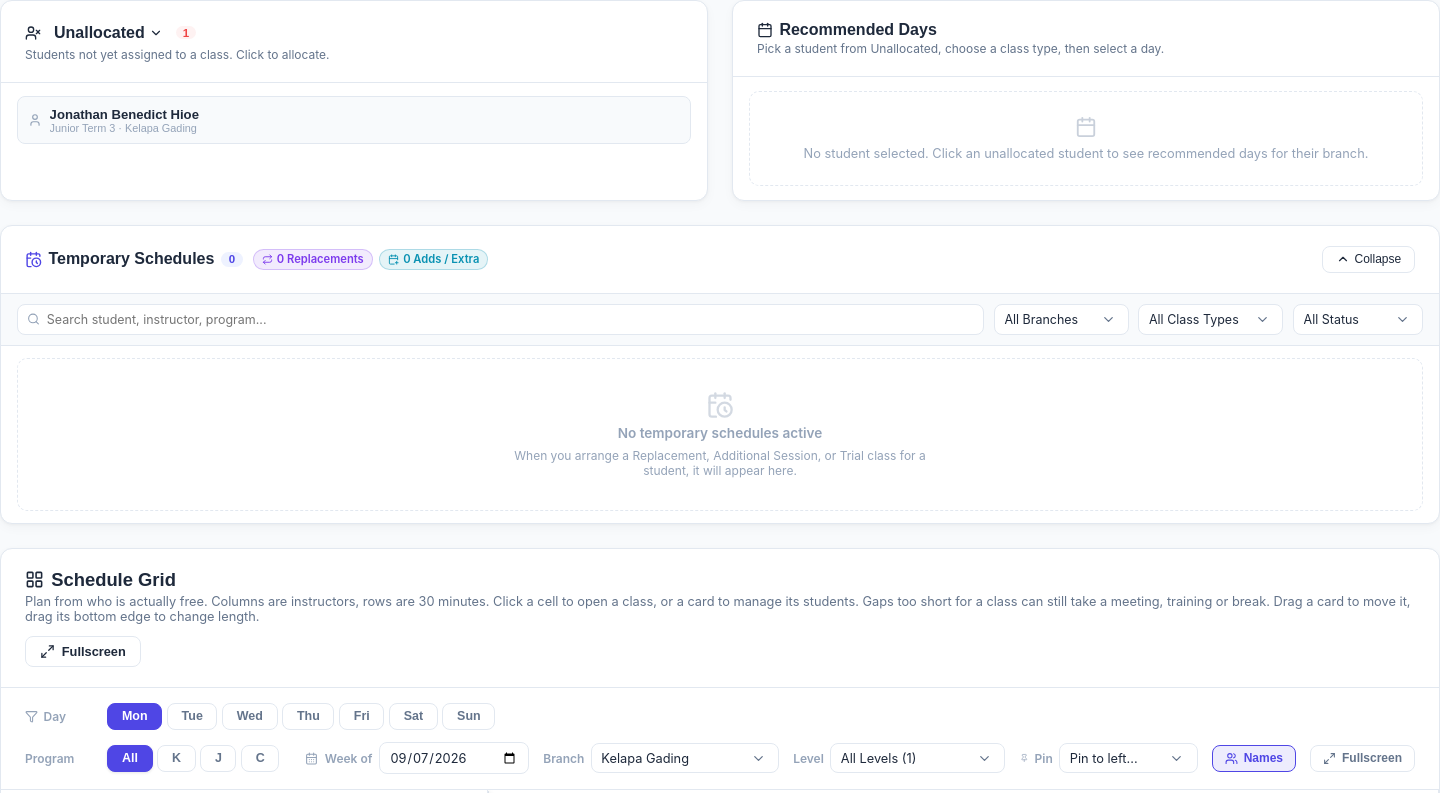
Test: NewSchedulePage - Program and Term Locking › shows student lesson comparison badges in recommended times slots
The image size is (1440, 793).
Click on Jonathan
Click the text "Jonathan Benedict Hioe". click: (124, 114)
box: [50,107,199,122]
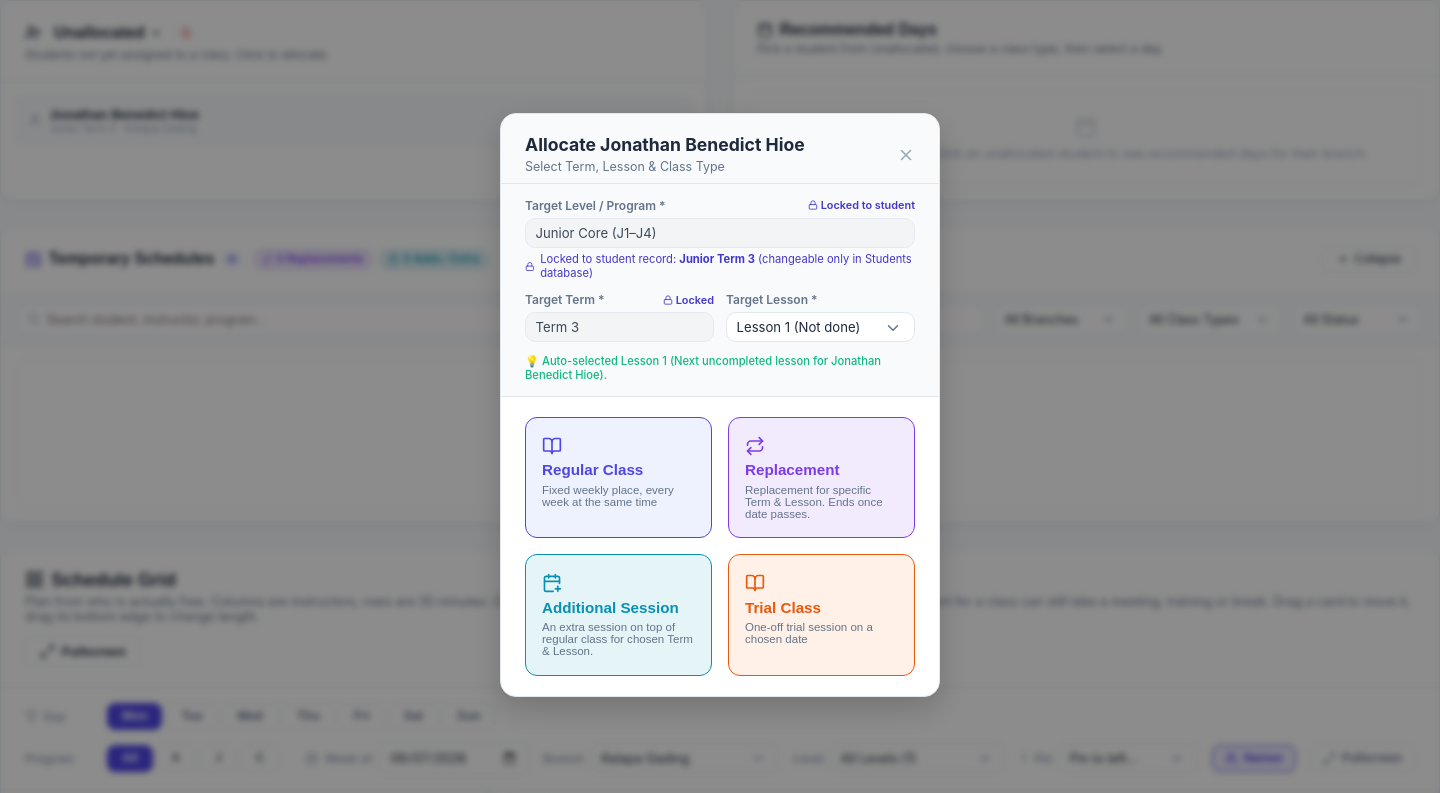
Click on Replacement card
Click the button "Replacement". click: (822, 478)
box: [728,417,915,538]
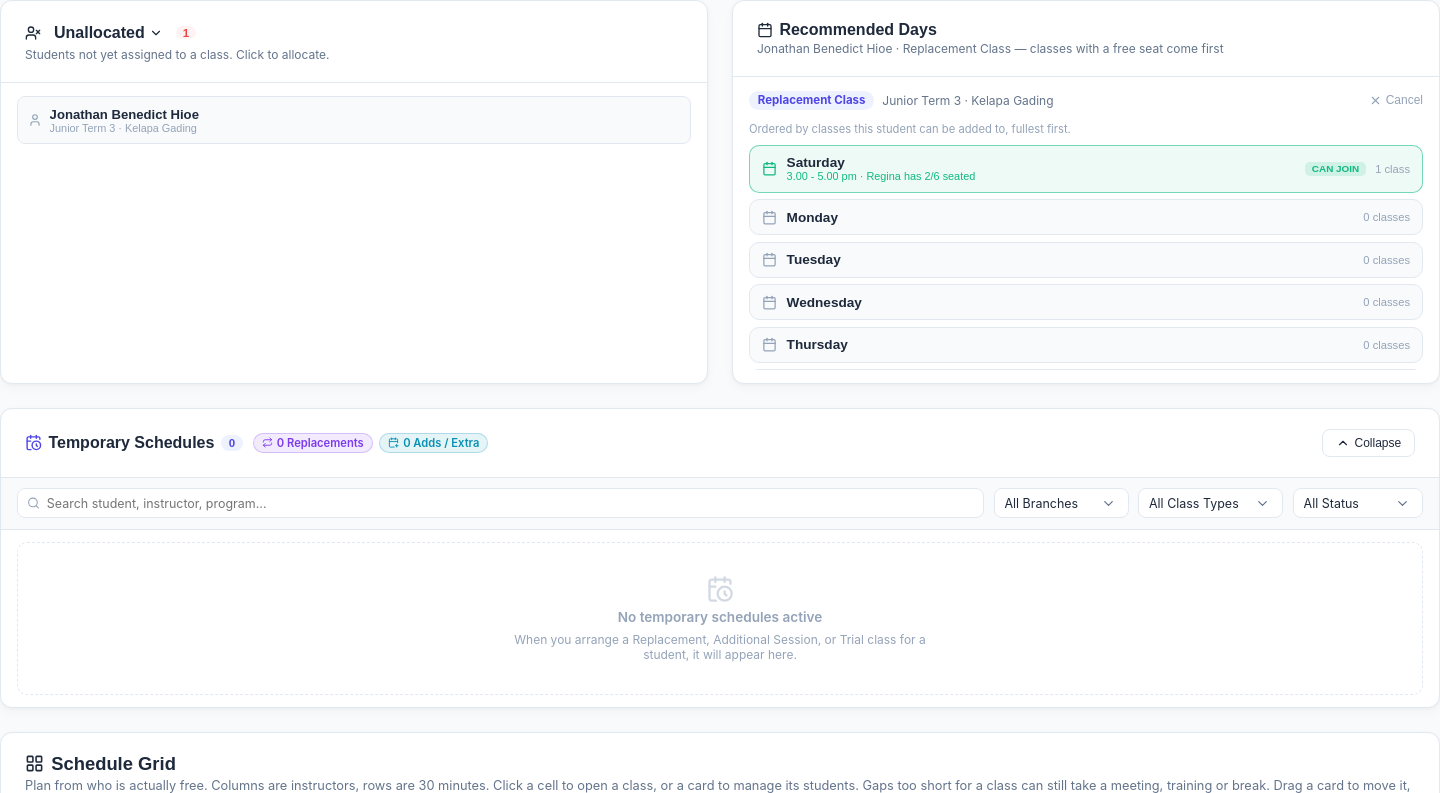
Click on Saturday in Recommended Days
Click the button titled "Saturday: 1 class with a free seat". click: (816, 163)
box: [749,144,1423,193]
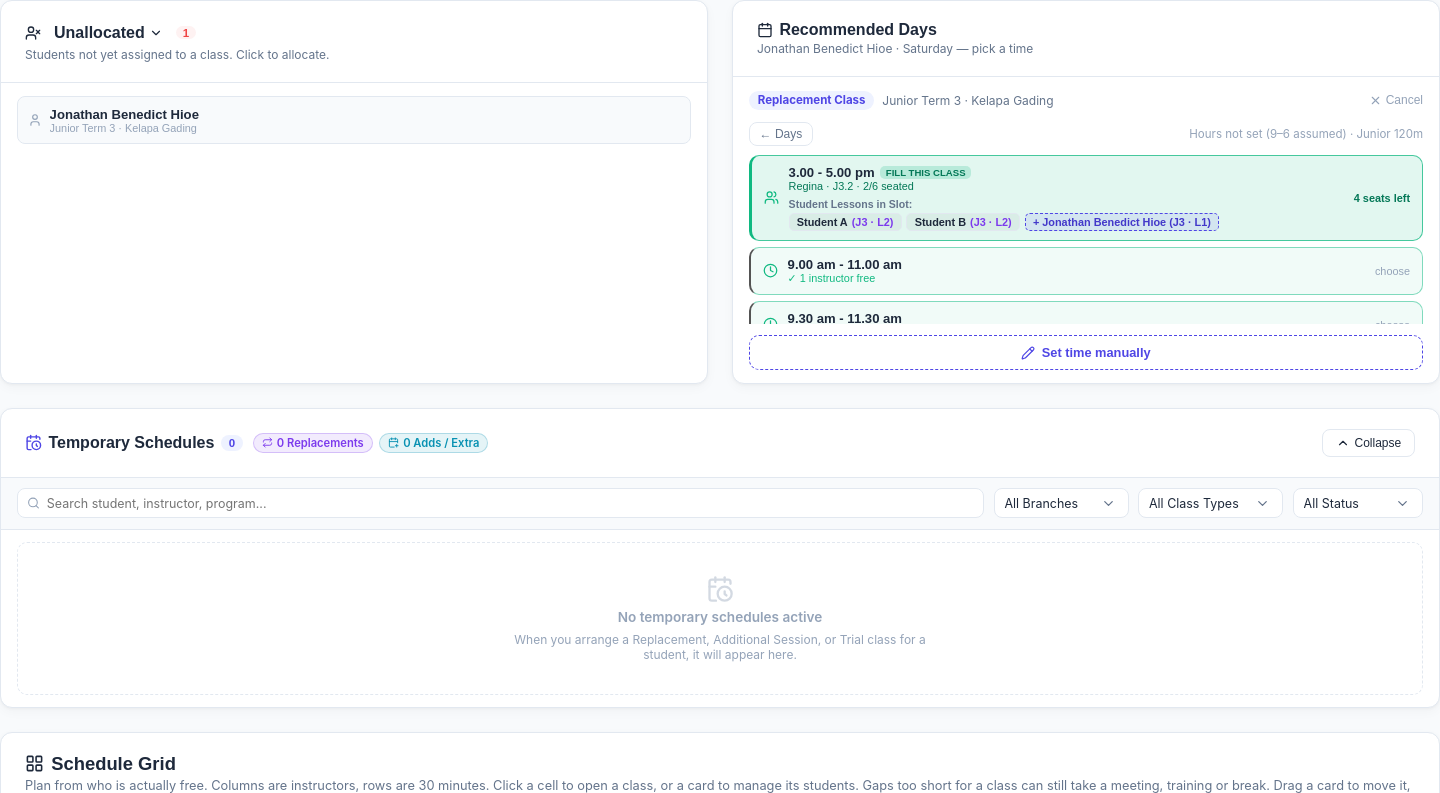
expect the text "Student Lessons in Slot:" is shown: met, box [789,198,912,210]
expect the text "+ Jonathan Benedict Hioe (J3 · L1)" is shown: met, box [1025,213,1219,231]
